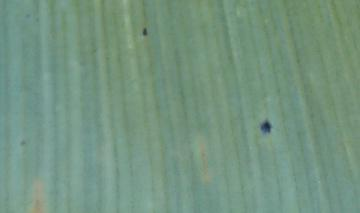tarspot: (260, 120, 272, 135), (141, 26, 149, 37)
